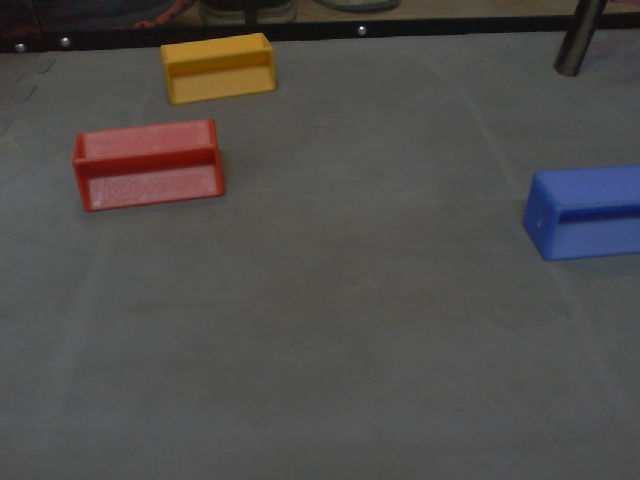BlueSample: (521, 161, 640, 263)
RedSample: (72, 117, 226, 215)
YellowSample: (152, 31, 279, 106)
